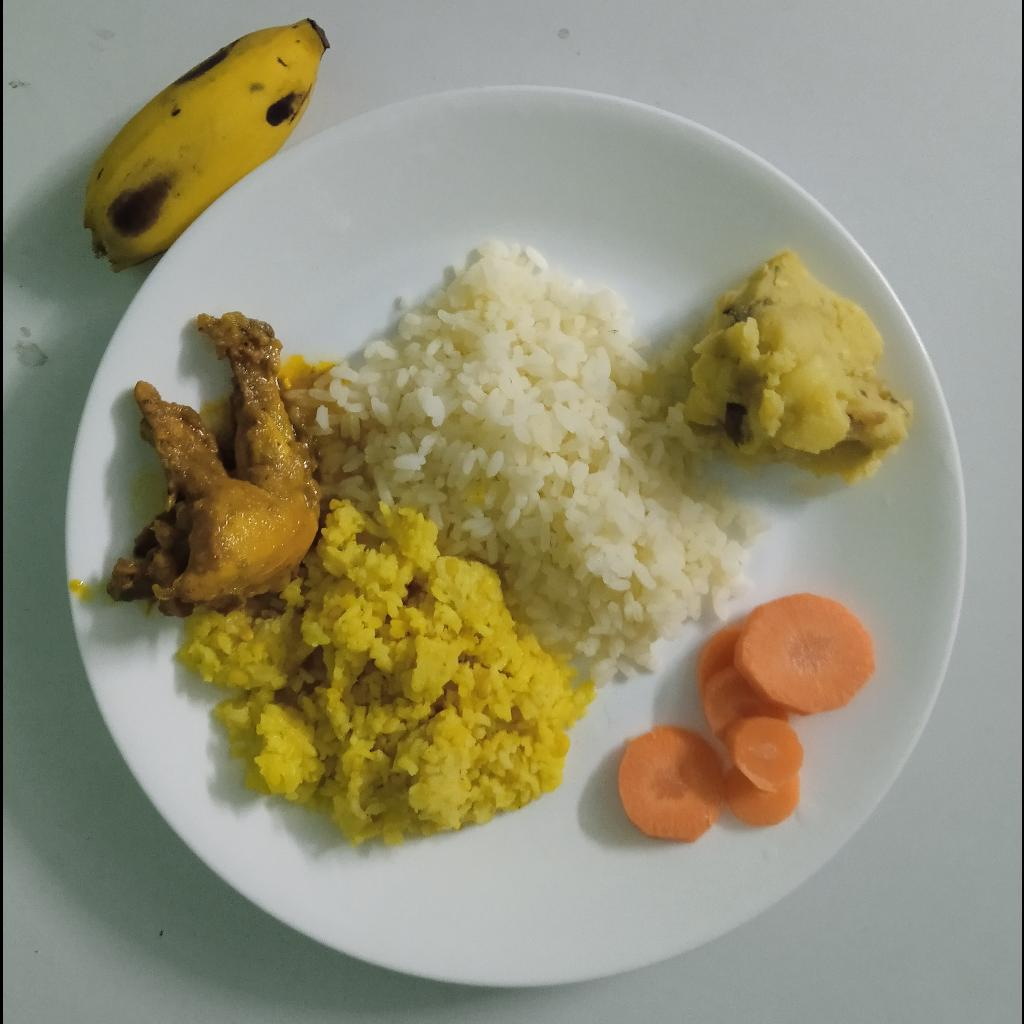banana: (81, 18, 331, 274)
carrot: (613, 594, 875, 843)
chicken: (101, 311, 323, 620)
khichuri: (174, 496, 598, 852)
potato-mashed: (680, 247, 912, 487)
rice: (286, 237, 770, 683)
